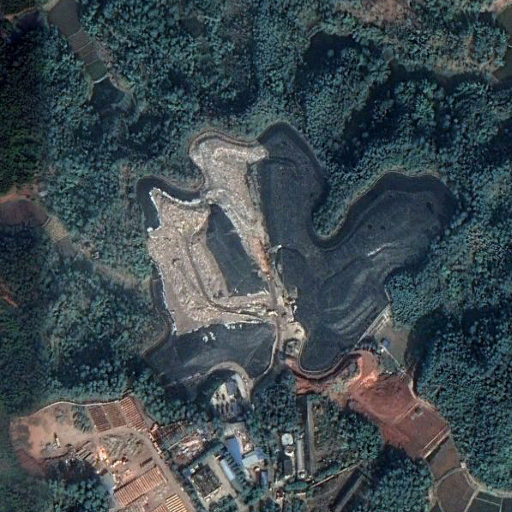lf: (136, 119, 455, 392)
